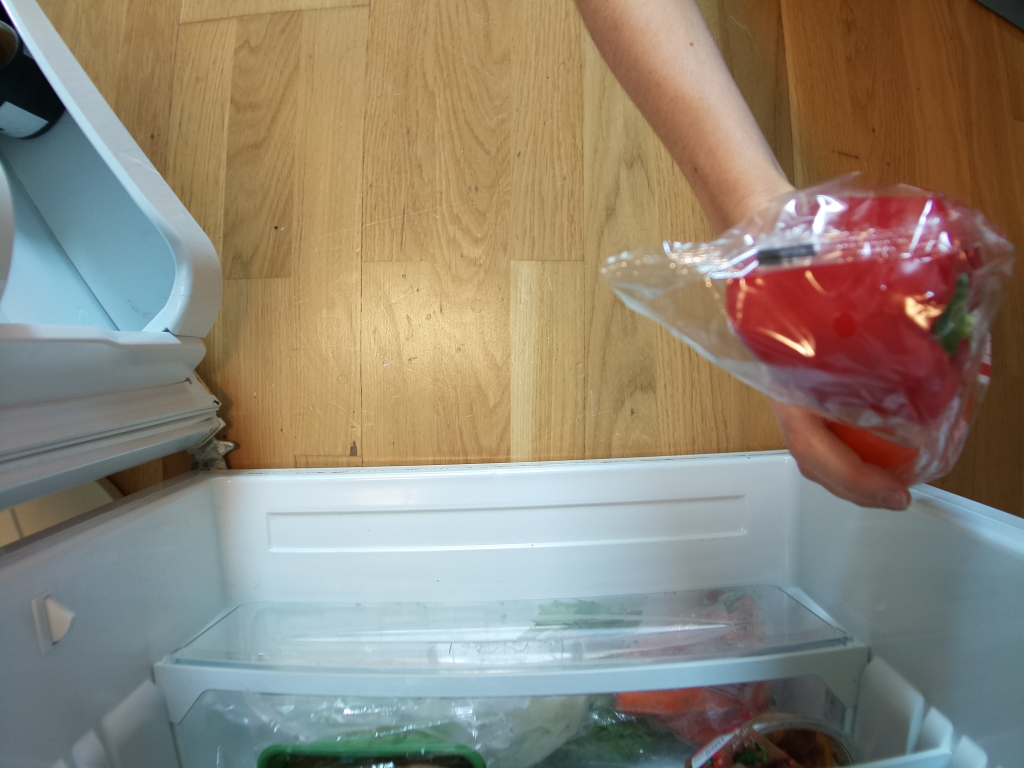pepper: (730, 190, 990, 407)
